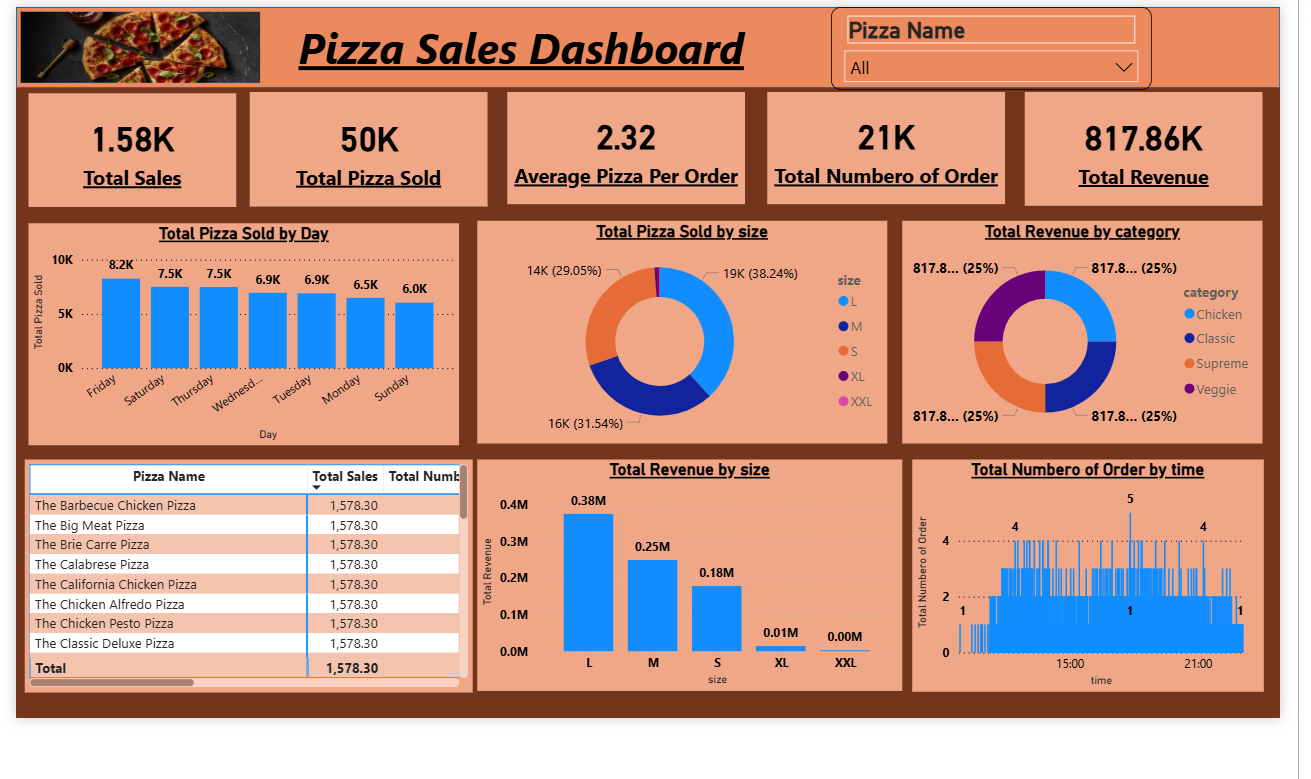

This screenshot's page, from the dashboard's own definition file:
{"tool":"powerbi","page":{"name":"Page 1","canvas":[1280,720],"ordinal":0},"visuals":[{"type":"card","fields":{"Values":["pizza.total sales"]},"box":[12.2,86.9,210.5,115.1],"z":0},{"type":"shape","box":[0,0,1280.2,82],"z":1000},{"type":"textbox","box":[281.5,6.1,479.8,72.2],"z":2000},{"type":"image","box":[0,0,252.1,82],"z":3000},{"type":"card","fields":{"Values":["pizza.average pizza sold"]},"box":[496.9,85.7,241.1,113.8],"z":4000},{"type":"card","fields":{"Values":["orders.total order"]},"box":[761.3,85.7,241.1,113.8],"z":5000},{"type":"card","fields":{"Values":["order_details.total pizza sold"]},"box":[236.2,85.7,241.1,116.3],"z":6000},{"type":"card","fields":{"Values":["orders.Total Revenue"]},"box":[1022,85.7,241.1,115.1],"z":7000},{"type":"slicer","fields":{"Values":["pizza_detail.name"]},"box":[825.8,0,324.9,84.3],"z":8000},{"type":"clusteredColumnChart","fields":{"Category":["orders.Day"],"Y":["order_details.Total Pizza Sold"]},"box":[12.2,218.7,436.1,224.8],"z":9000},{"type":"donutChart","fields":{"Category":["pizza.size"],"Y":["order_details.Total Pizza Sold"]},"box":[466.5,216.9,415,225.7],"z":10000},{"type":"donutChart","fields":{"Category":["pizza_detail.category"],"Y":["orders.Total Revenue"]},"box":[897.8,216.9,364.9,225.7],"z":11000},{"type":"clusteredColumnChart","fields":{"Category":["pizza.size"],"Y":["orders.Total Revenue"]},"box":[487.5,458,420.5,234.1],"z":12000},{"type":"pivotTable","fields":{"Rows":["pizza_detail.Pizza Name"],"Values":["pizza.Total Sales","orders.Total Numbero of Order","pizza.Average Pizza Per Order"]},"box":[9.1,458,468.2,235.2],"z":13000},{"type":"clusteredColumnChart","fields":{"Category":["orders.time"],"Y":["orders.Total Numbero of Order"]},"box":[915.9,458,355.7,235.2],"z":13001}]}

Visuals, with their boxes in screenshot pixels (x1, y1, x2, y2):
card - pizza.total sales: x1=12, y1=91, x2=225, y2=207
shape: x1=0, y1=3, x2=1293, y2=86
textbox: x1=284, y1=10, x2=769, y2=82
image: x1=0, y1=3, x2=255, y2=86
card - pizza.average pizza sold: x1=502, y1=90, x2=745, y2=205
card - orders.total order: x1=769, y1=90, x2=1012, y2=205
card - order_details.total pizza sold: x1=239, y1=90, x2=482, y2=207
card - orders.Total Revenue: x1=1032, y1=90, x2=1276, y2=206
slicer - pizza_detail.name: x1=834, y1=3, x2=1162, y2=89
clusteredColumnChart - orders.Day x order_details.Total Pizza Sold: x1=12, y1=224, x2=453, y2=451
donutChart - pizza.size x order_details.Total Pizza Sold: x1=471, y1=222, x2=890, y2=450
donutChart - pizza_detail.category x orders.Total Revenue: x1=907, y1=222, x2=1275, y2=450
clusteredColumnChart - pizza.size x orders.Total Revenue: x1=492, y1=466, x2=917, y2=702
pivotTable - pizza_detail.Pizza Name x pizza.Total Sales: x1=9, y1=466, x2=482, y2=704
clusteredColumnChart - orders.time x orders.Total Numbero of Order: x1=925, y1=466, x2=1284, y2=704
